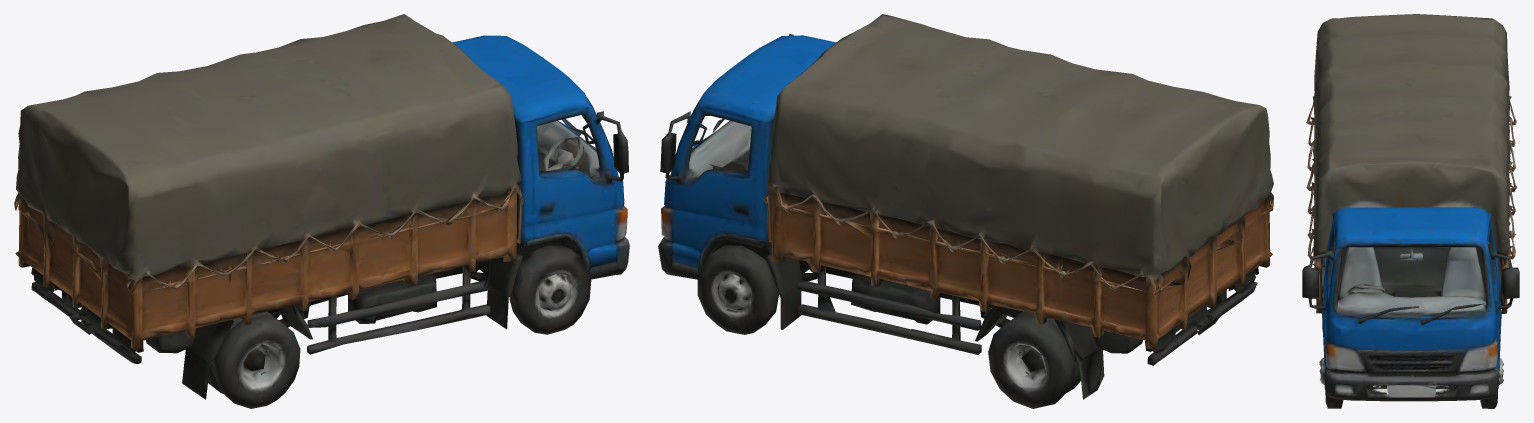
File: lorry.glb
The picture shows the model from 3 angles, left to right: view 1: azimuth 30°, elevation 25°; view 2: azimuth 150°, elevation 25°; view 3: azimuth 270°, elevation 25°; orthographic projection. The views are drawn at different scales.
Parts seen in each view (by area): view 1: tripo_node_1556af09-5893-447d-a109-733878e42172; view 2: tripo_node_1556af09-5893-447d-a109-733878e42172; view 3: tripo_node_1556af09-5893-447d-a109-733878e42172.
Part boxes in pixels (x1,y1,x2,y2): tripo_node_1556af09-5893-447d-a109-733878e42172: (14,14,629,408); tripo_node_1556af09-5893-447d-a109-733878e42172: (658,14,1273,408); tripo_node_1556af09-5893-447d-a109-733878e42172: (1302,14,1519,408).
Bounding box in the file's own units: 1 × 0.4924 × 0.4399.
Materials: 1 (1 with a texture image).
